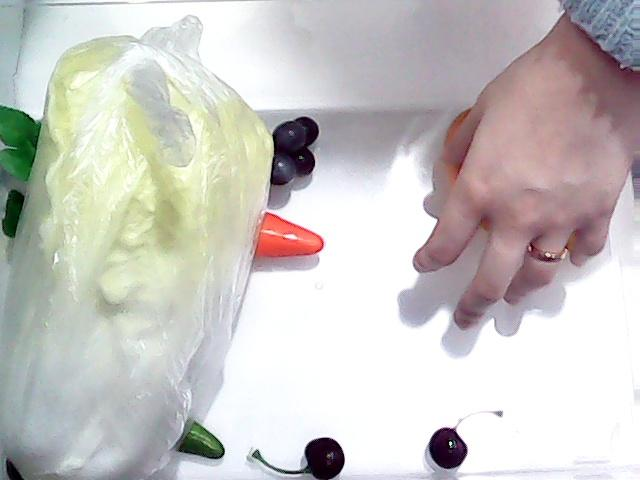carrot: (250, 210, 326, 260)
grape: (258, 114, 322, 186)
napa cabbage: (3, 32, 281, 476)
pepper: (173, 414, 231, 460)
